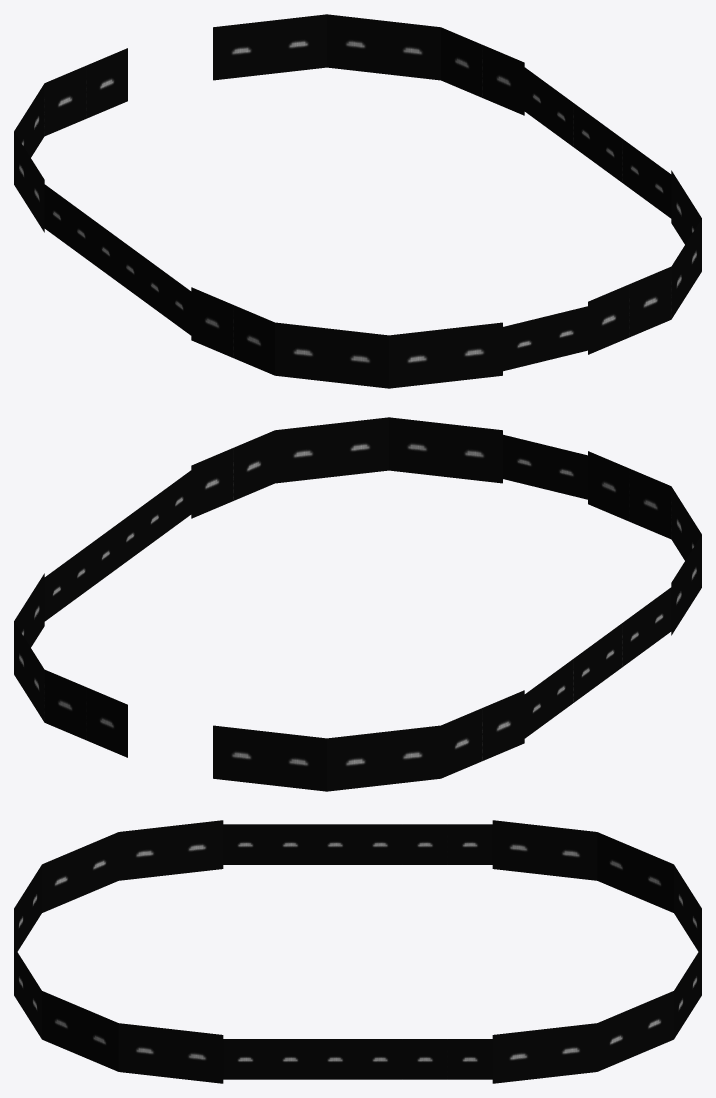
3 views of the same model, one above another, from view 1: azimuth 30°, elevation 25°; view 2: azimuth 150°, elevation 25°; view 3: azimuth 270°, elevation 25° (orthographic). The views are drawn at different scales.
Size of the model in its own units: 160 by 17.01 by 217.
Materials: 1 (1 with a texture image).
